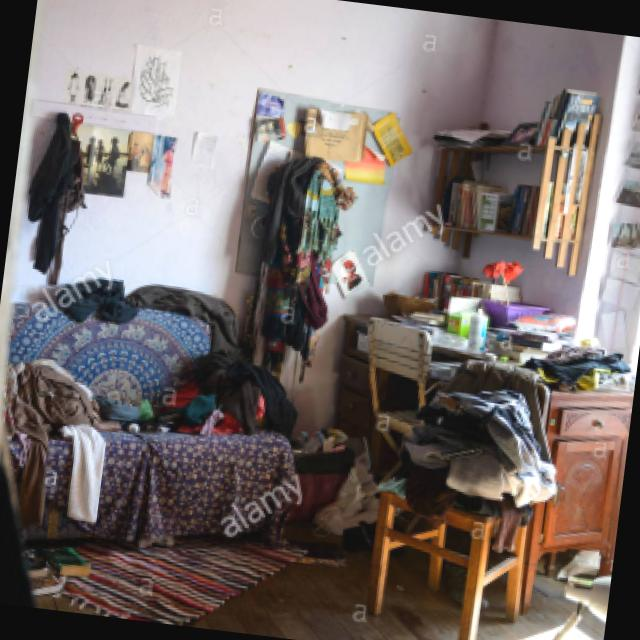mess: (0, 503, 611, 640), (0, 271, 289, 492), (211, 100, 428, 320), (392, 244, 640, 410), (349, 368, 561, 535), (426, 95, 600, 248)
